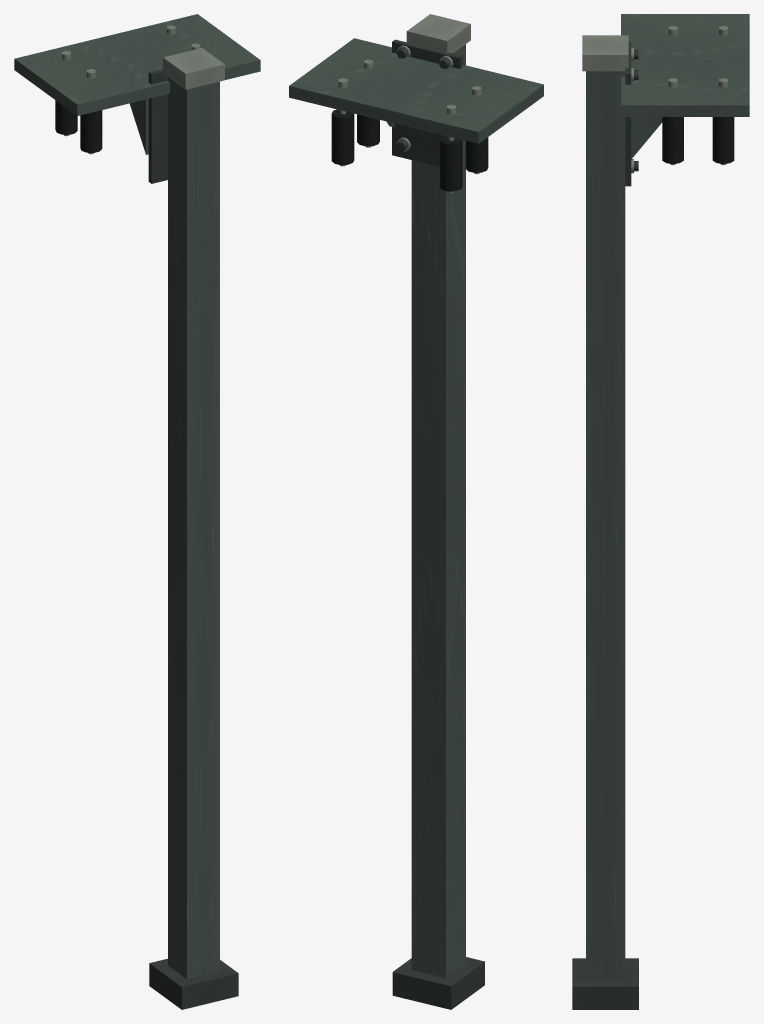
Rendered from SG_GuidePost.glb.
3 views of the same model, side by side, from view 1: azimuth 30°, elevation 25°; view 2: azimuth 150°, elevation 25°; view 3: azimuth 270°, elevation 25° (orthographic). The views are drawn at different scales.
Visible parts, largest first — view 1: SG_Post_Right; view 2: SG_Post_Right; view 3: SG_Post_Right.
Boxes of the visible parts, <box> form: SG_Post_Right: <box>14,14,260,1009</box>; SG_Post_Right: <box>289,14,543,1009</box>; SG_Post_Right: <box>572,14,749,1009</box>.
Bounding box in the file's own units: 0.42 × 2.04 × 0.345.
1 material, 1 textured.
